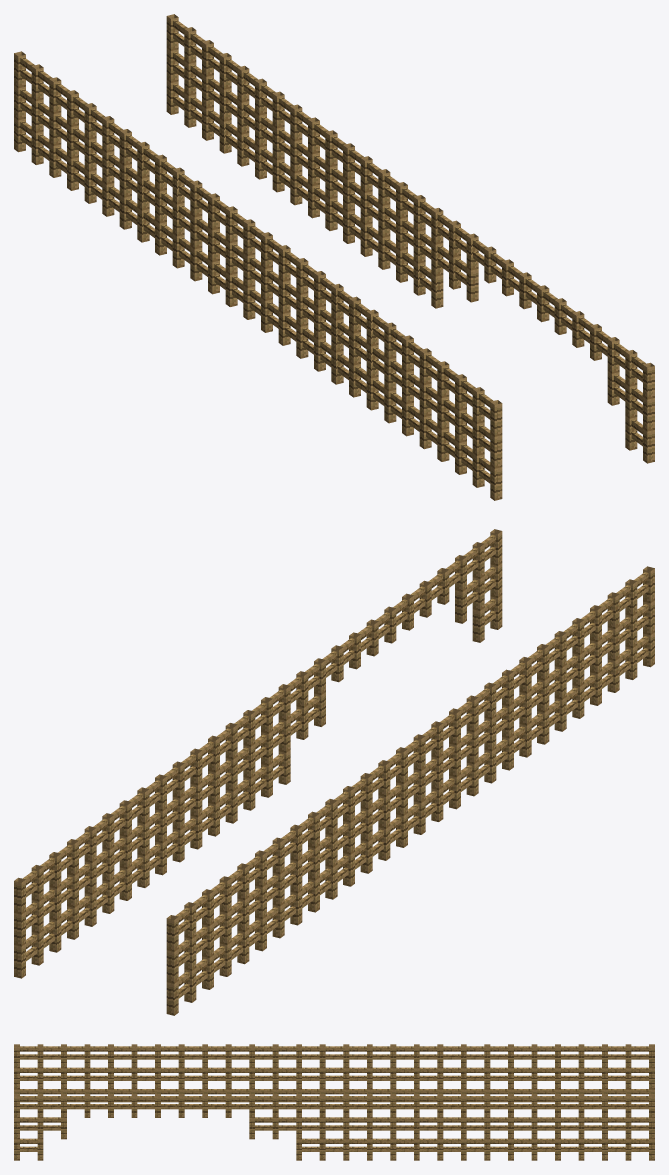
Rendered from Fence.fbx.
The picture shows the model from 3 angles, top to bottom: view 1: azimuth 30°, elevation 25°; view 2: azimuth 150°, elevation 25°; view 3: azimuth 270°, elevation 25°; orthographic projection. The views are drawn at different scales.
Visible parts, largest first — view 1: Fence; view 2: Fence; view 3: Fence.
Boxes of the visible parts, <box> form: Fence: <box>14,14,654,500</box>; Fence: <box>14,529,654,1015</box>; Fence: <box>14,1044,654,1160</box>.
Bounding box in the file's own units: 525 × 300 × 2725.
1 material, 1 textured.
